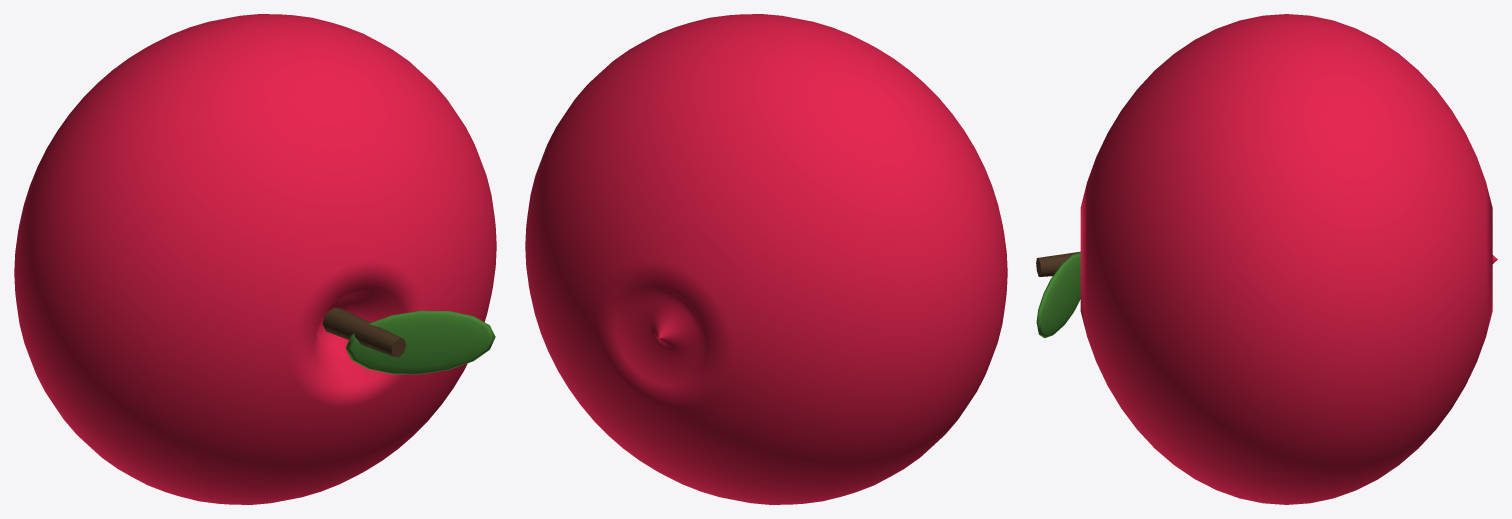
File: apple.obj
3 renders of one model, left to right at view 1: azimuth 30°, elevation 25°; view 2: azimuth 150°, elevation 25°; view 3: azimuth 270°, elevation 25°, orthographic. The views are drawn at different scales.
Visible parts, largest first — view 1: apple_0_0, apple_2_1937, apple_1_1885; view 2: apple_0_0; view 3: apple_0_0, apple_2_1937, apple_1_1885.
Boxes of the visible parts, left/top/right/bottom form: apple_0_0: left=14, top=14, right=496, bottom=504; apple_2_1937: left=345, top=310, right=495, bottom=374; apple_1_1885: left=322, top=307, right=406, bottom=357; apple_0_0: left=525, top=14, right=1007, bottom=504; apple_0_0: left=1080, top=14, right=1497, bottom=504; apple_2_1937: left=1036, top=252, right=1080, bottom=338; apple_1_1885: left=1036, top=251, right=1080, bottom=276.
Bounding box in the file's own units: 0.077 × 0.077 × 0.0724.
